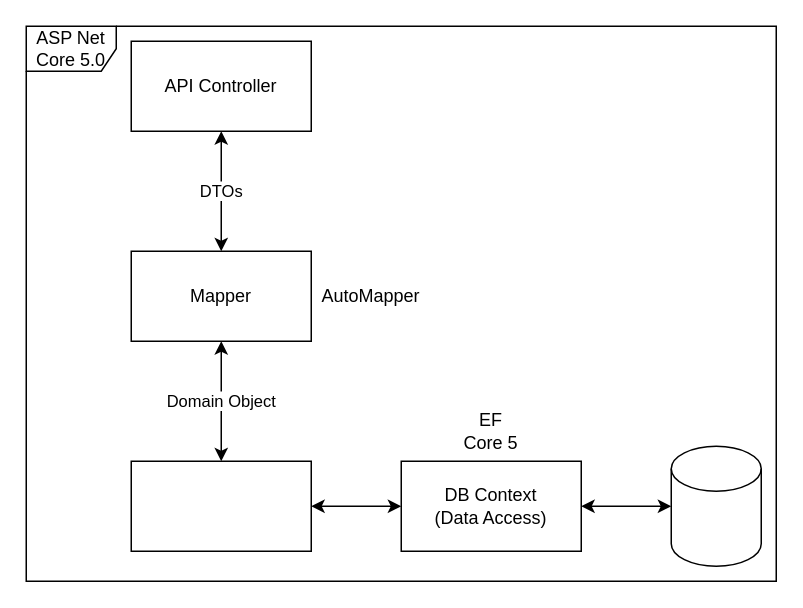
This 803x608 diagram has some shape labels left out. The shapes that lost their labels are listed below. From the top down, each one's centre as x and y in pixels, then its label:
the point at 220,505: Repositories
the point at 715,505: MySQL
